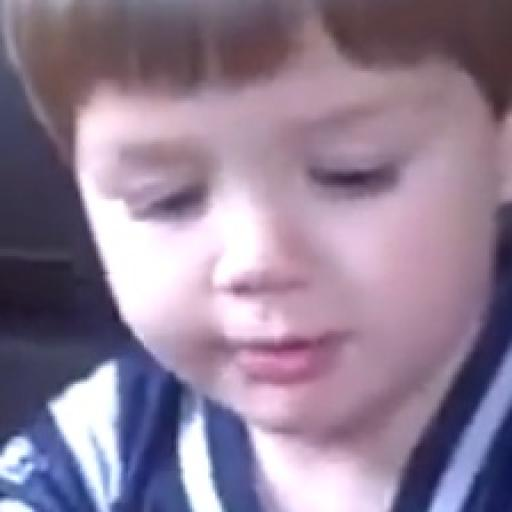Autism: (27, 17, 512, 470)
